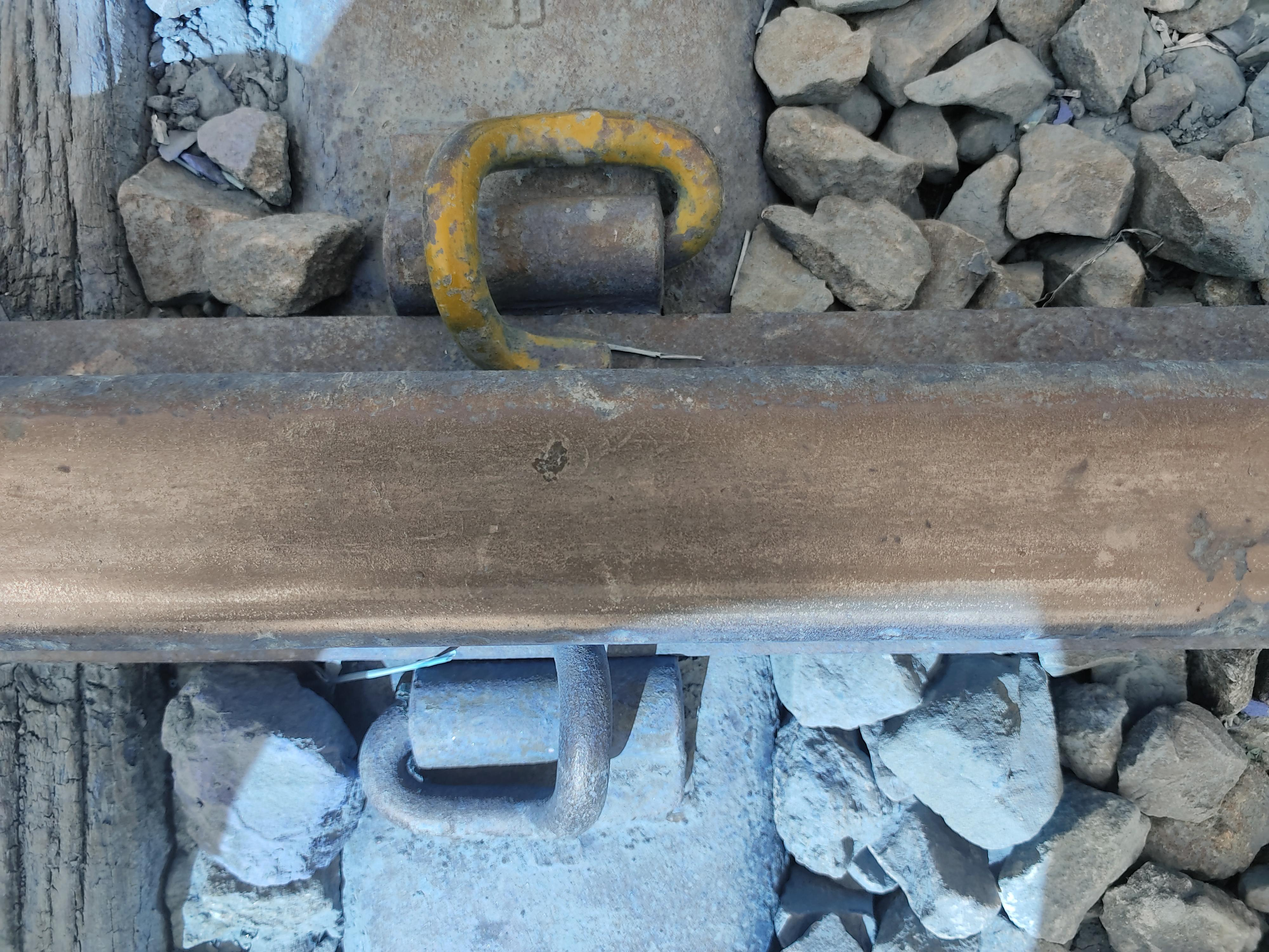Poor contact: (349, 622, 698, 901), (378, 105, 730, 362)
